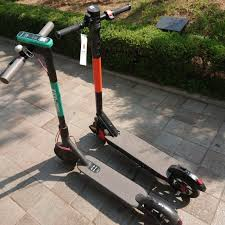kick_handler: (3, 21, 54, 84), (57, 6, 132, 36)
kick_neck: (91, 39, 103, 116)
kick_wheel: (171, 168, 198, 199)
